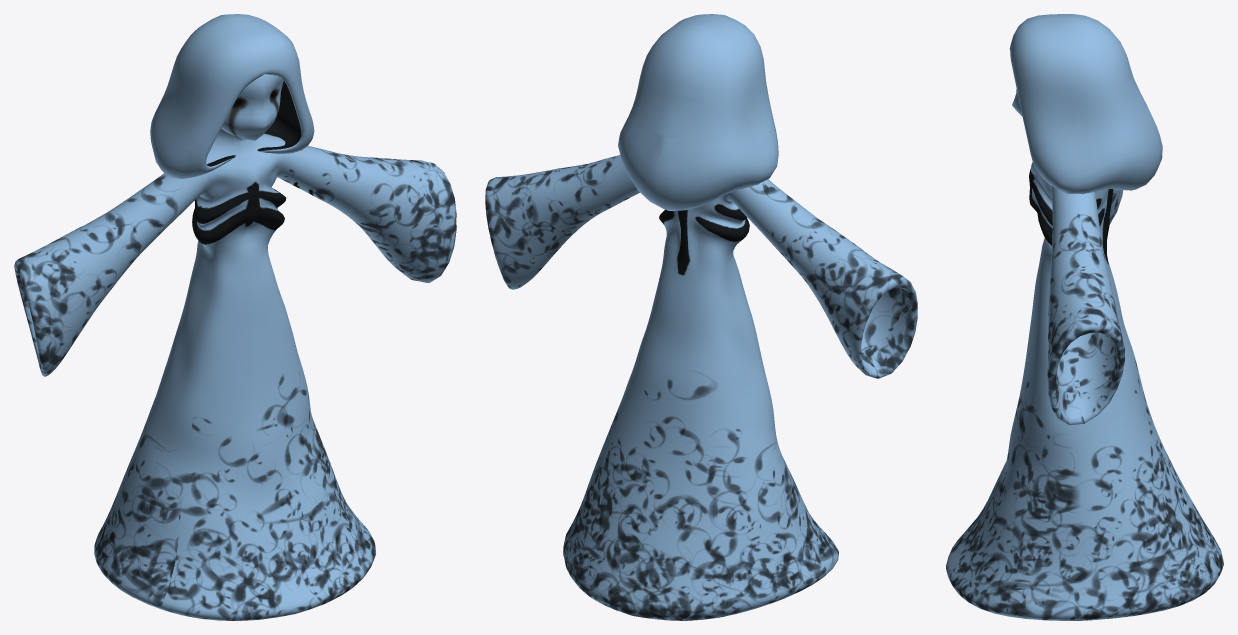
Rendered from Ghost_low.obj.
The picture shows the model from 3 angles, left to right: view 1: azimuth 30°, elevation 25°; view 2: azimuth 150°, elevation 25°; view 3: azimuth 270°, elevation 25°; orthographic projection. The views are drawn at different scales.
Parts seen in each view (by area): view 1: Ghost_low:low_initialShadingGroup; view 2: Ghost_low:low_initialShadingGroup; view 3: Ghost_low:low_initialShadingGroup.
Part boxes in pixels (<box>): Ghost_low:low_initialShadingGroup: <box>14,14,456,620</box>; Ghost_low:low_initialShadingGroup: <box>485,14,917,620</box>; Ghost_low:low_initialShadingGroup: <box>946,14,1223,620</box>.
Size of the model in its own units: 133 by 165 by 74.58.
Materials: 1 (1 with a texture image).
